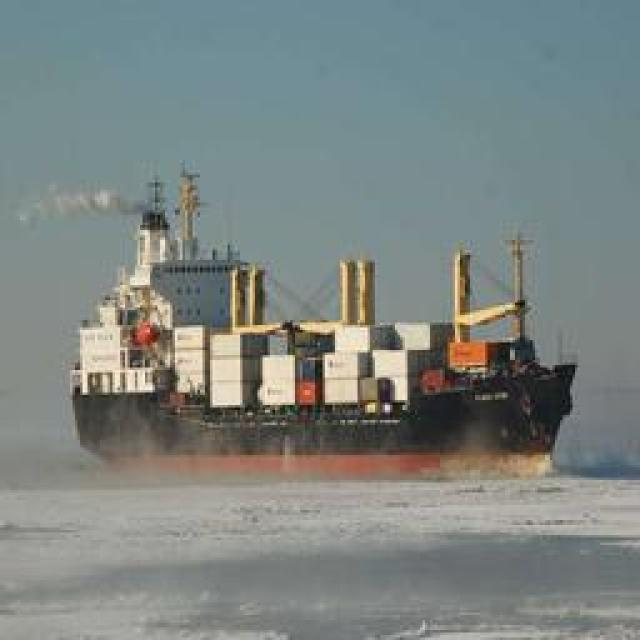CIV_Ship: (70, 196, 580, 469)
